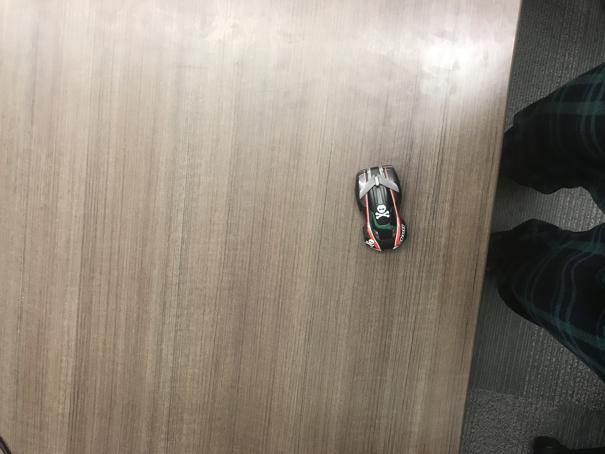Skull: (352, 164, 409, 252)
